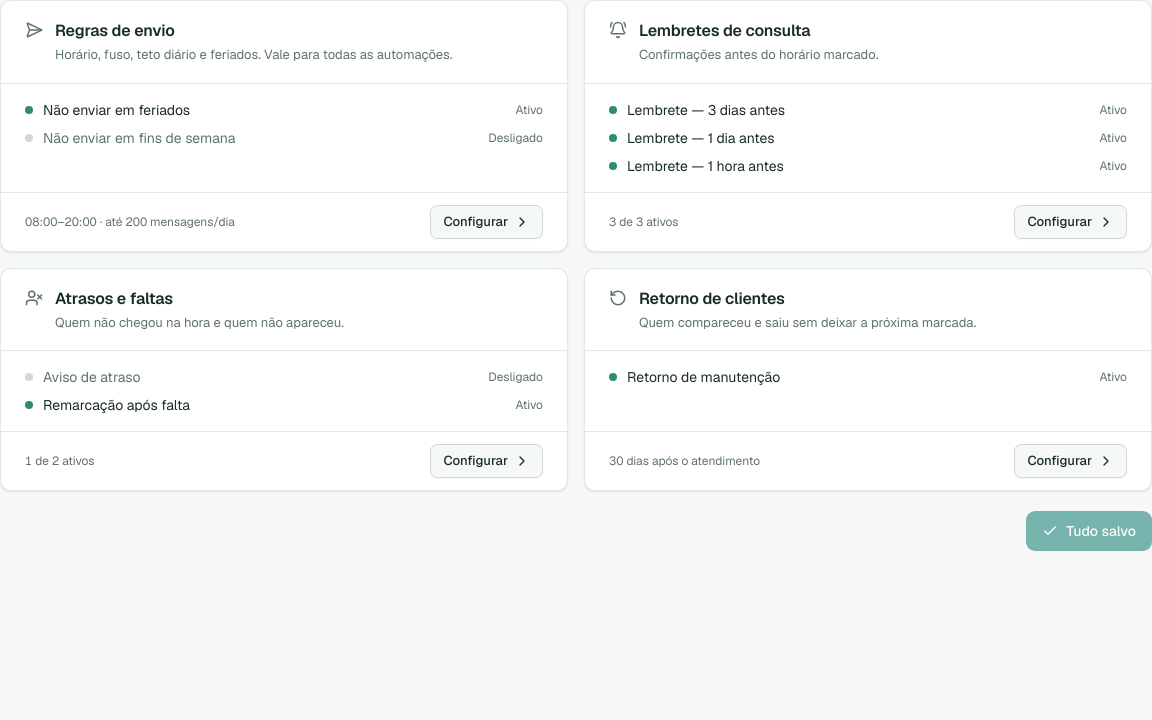
Test: AutomationsTab › o aviso de atraso chega desligado e explica o porquê
The width and height of the screenshot is (1152, 720).
Click the button with aria-label "Configurar Atrasos e faltas": (487, 461) 430,444 -> 543,478
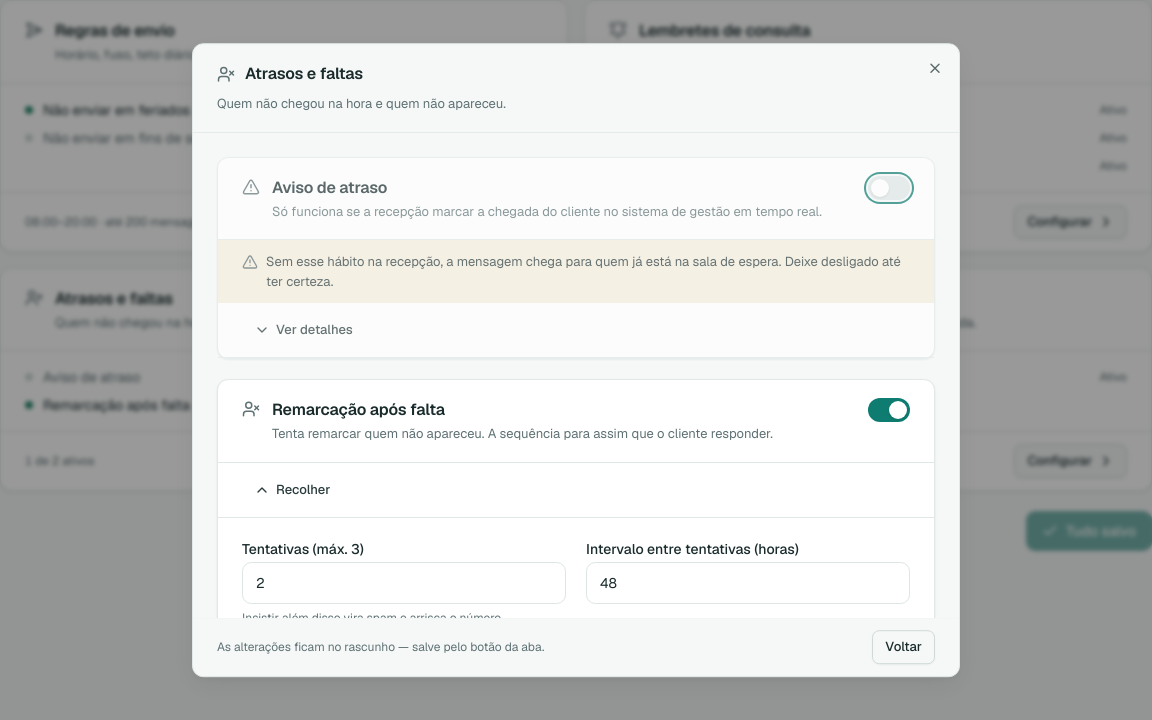
Expected: the text "já está na sala de espera" is shown, 266,253 -> 901,290
